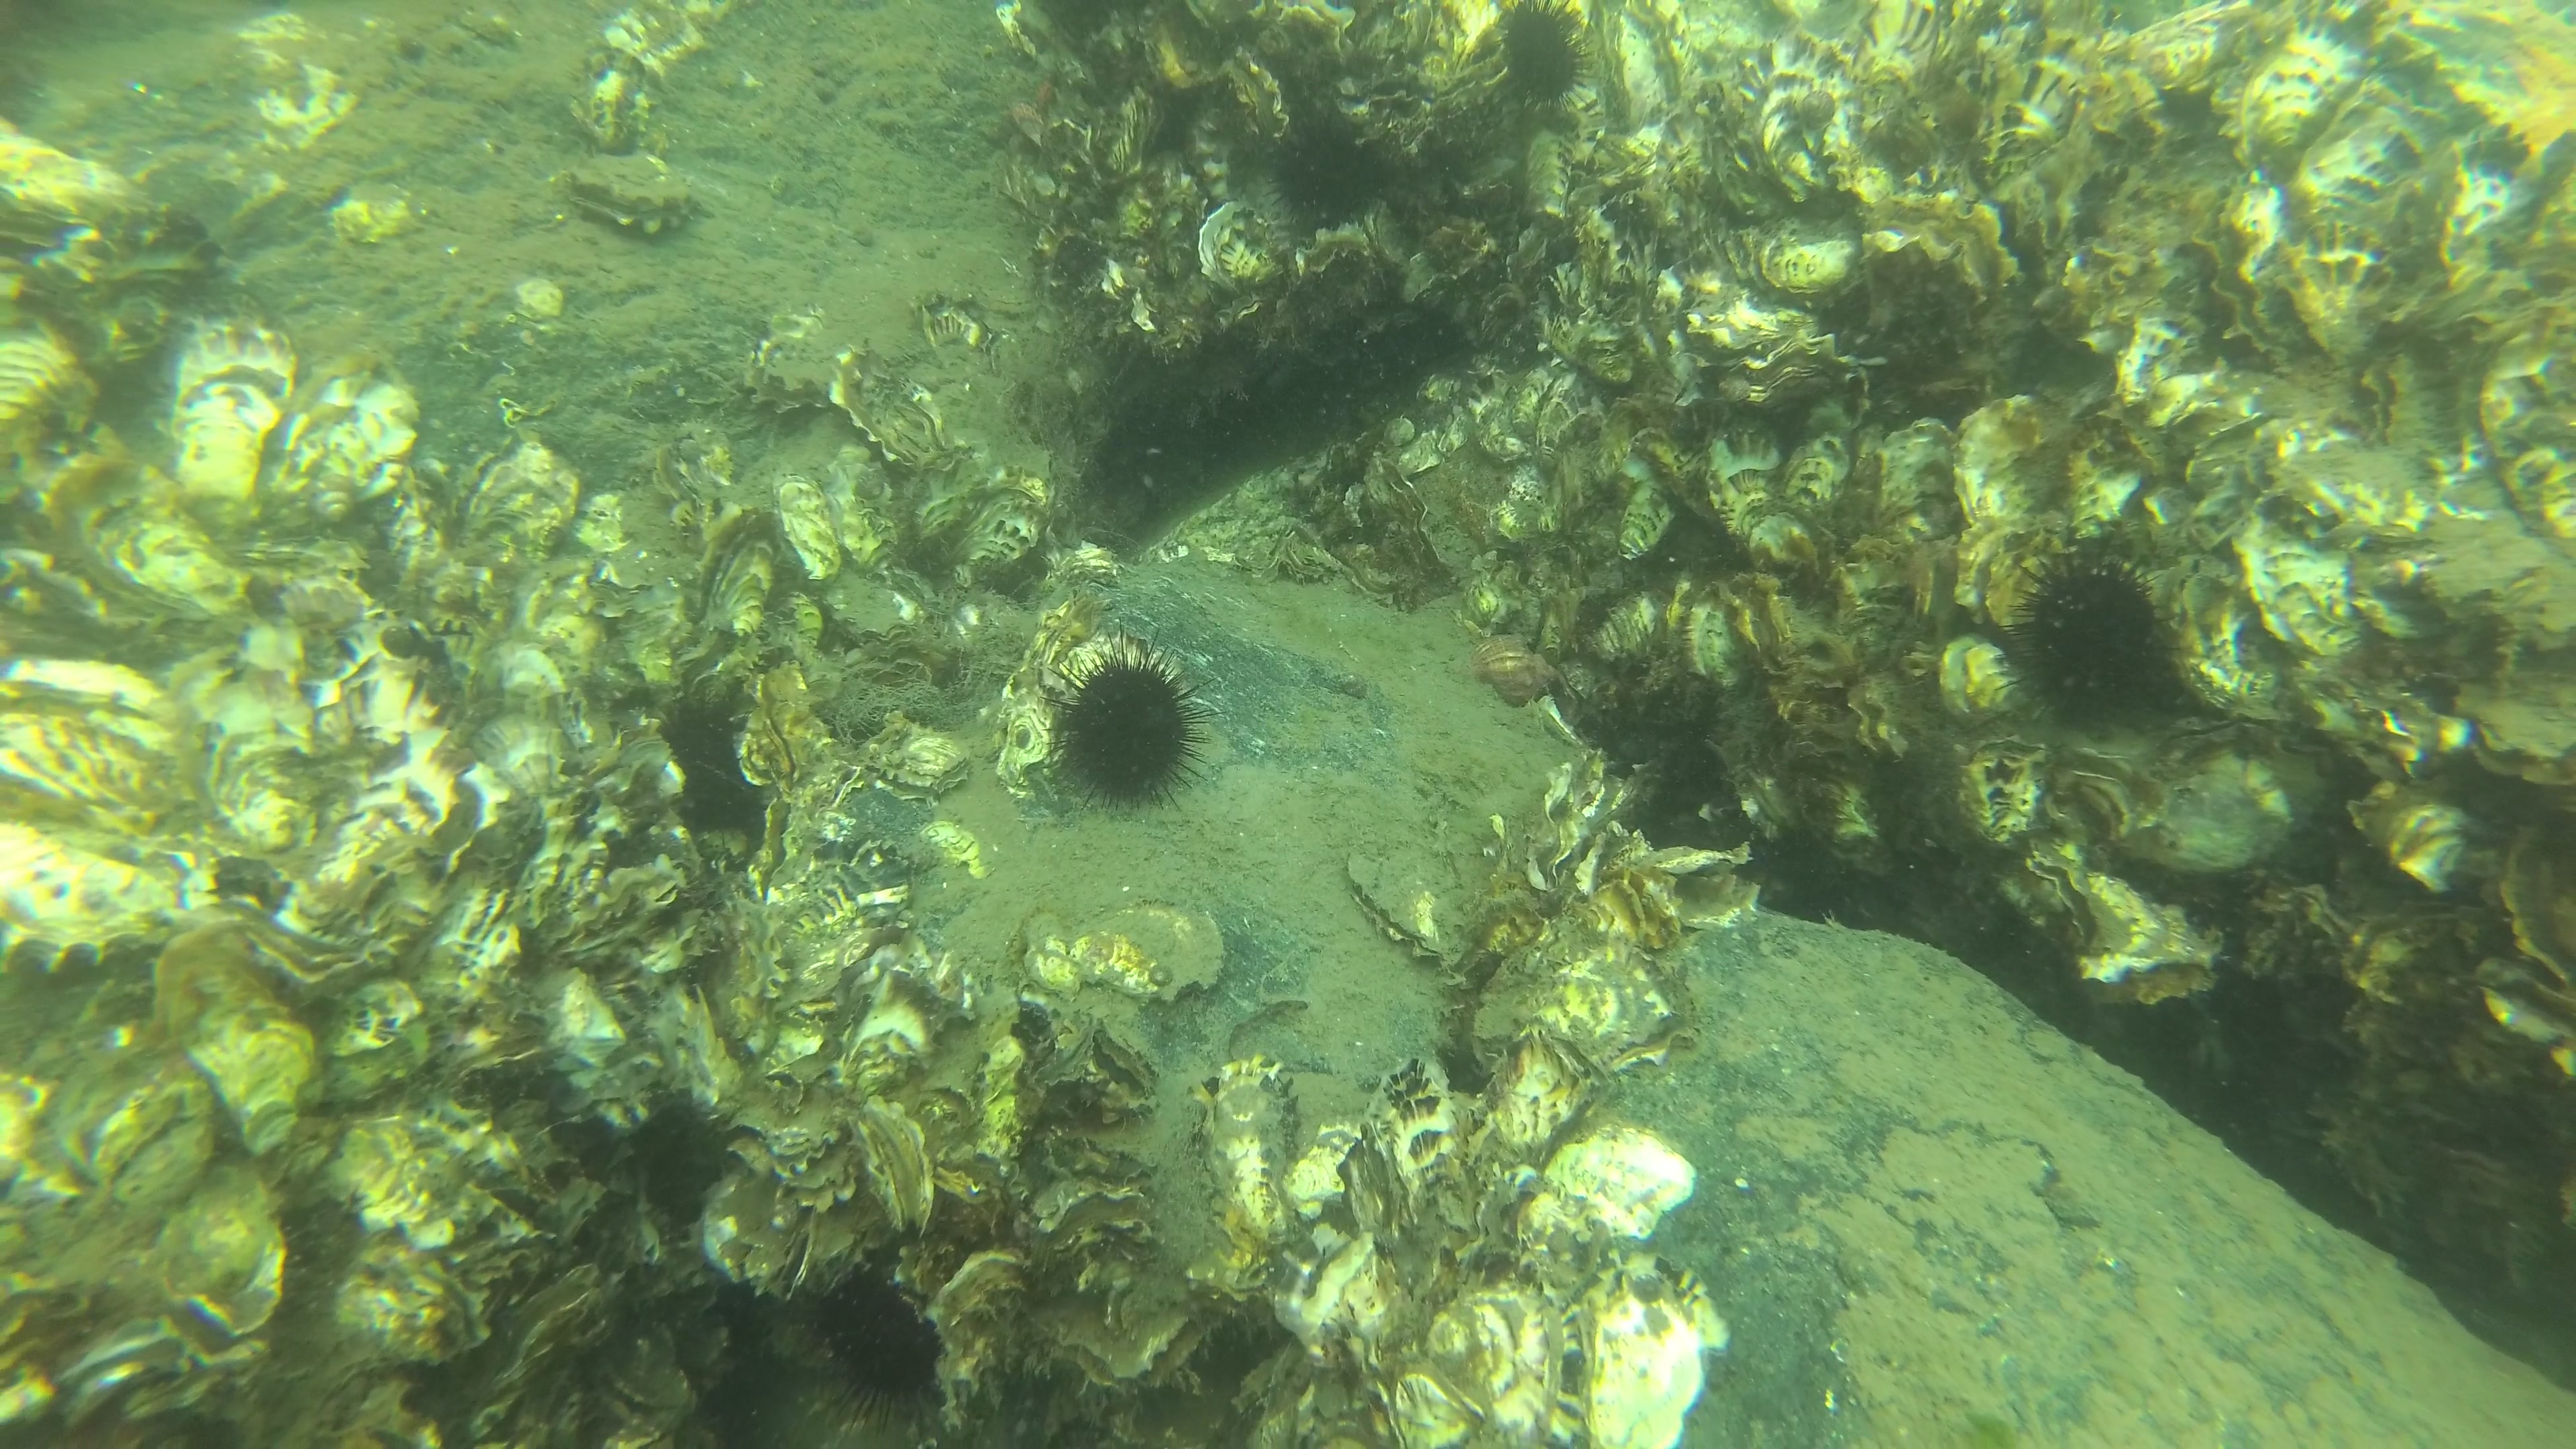echinus: (1985, 536, 2189, 724), (1019, 649, 1219, 814), (830, 1288, 941, 1442), (1258, 113, 1401, 226), (1483, 2, 1596, 113)
